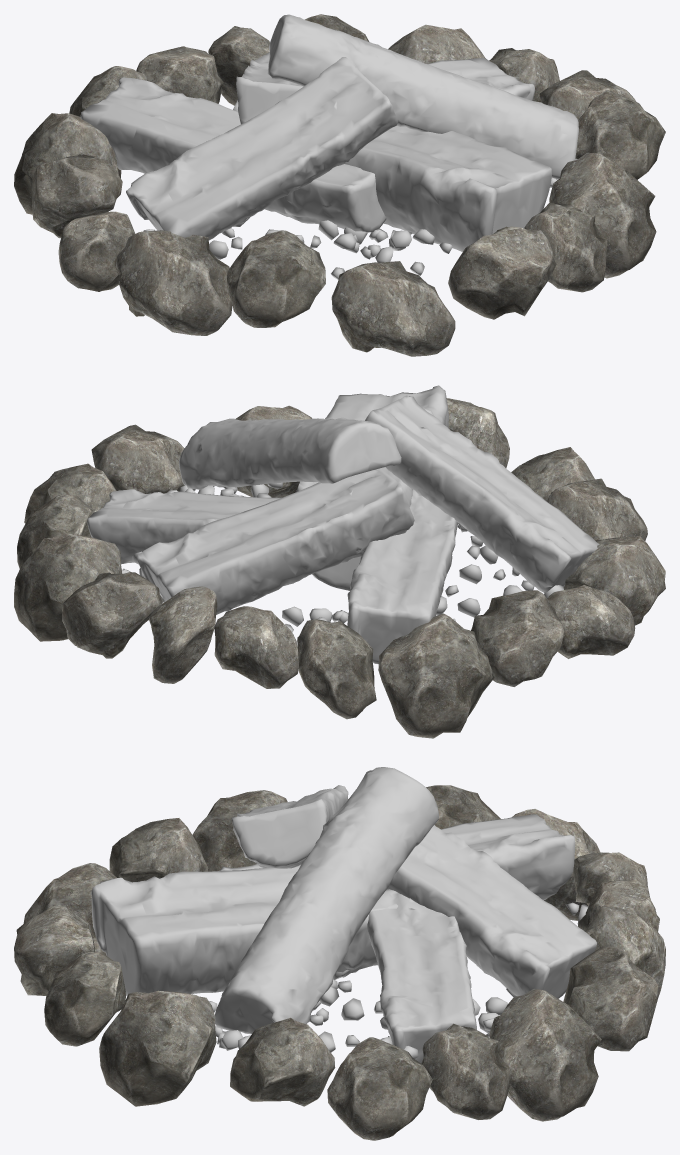
The model's file is Campfire.gltf.
3 renders of one model, top to bottom at view 1: azimuth 30°, elevation 25°; view 2: azimuth 150°, elevation 25°; view 3: azimuth 270°, elevation 25°, orthographic. The views are drawn at different scales.
Parts seen in each view (by area): view 1: Rocks, Logs, Embers.006; view 2: Rocks, Logs, Embers.006; view 3: Logs, Rocks, Embers.006.
Part boxes in pixels (bbox=[...]): Rocks: bbox=[14, 14, 665, 356]; Logs: bbox=[80, 14, 578, 251]; Embers.006: bbox=[143, 100, 577, 279]; Rocks: bbox=[14, 398, 665, 738]; Logs: bbox=[87, 385, 599, 664]; Embers.006: bbox=[121, 482, 563, 646]; Logs: bbox=[91, 767, 596, 1063]; Rocks: bbox=[14, 785, 665, 1140]; Embers.006: bbox=[209, 902, 588, 1058].
Size of the model in its own units: 1.37 by 0.4844 by 1.25.
